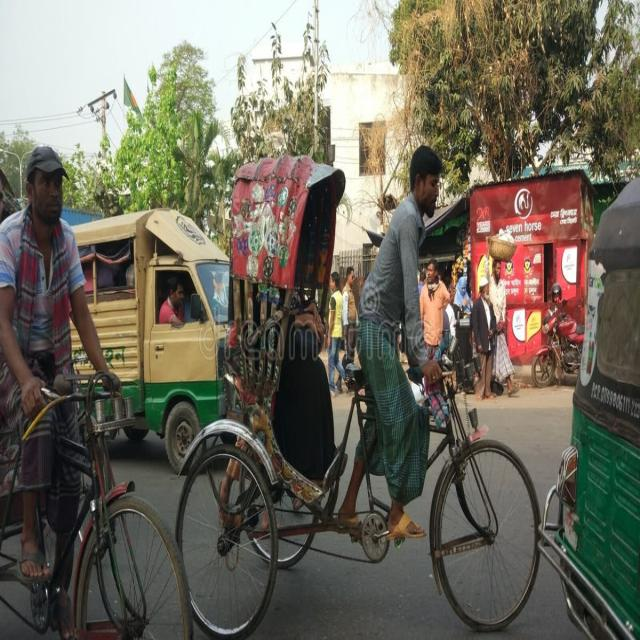Leguna: (1, 135, 261, 497)
Rickshaw: (145, 103, 549, 640), (1, 201, 187, 640)
